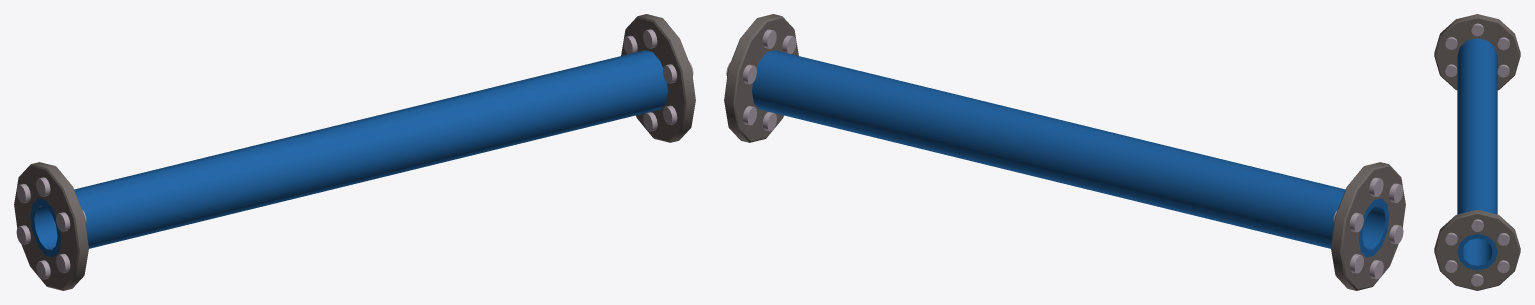
File: Pipe-Straight.fbx
3 views of the same model, side by side, from view 1: azimuth 30°, elevation 25°; view 2: azimuth 150°, elevation 25°; view 3: azimuth 270°, elevation 25° (orthographic). The views are drawn at different scales.
Visible parts, largest first — view 1: Pipe-Straight; view 2: Pipe-Straight; view 3: Pipe-Straight.
Part boxes in pixels (<box>): Pipe-Straight: <box>14,14,695,290</box>; Pipe-Straight: <box>724,14,1405,290</box>; Pipe-Straight: <box>1434,14,1520,290</box>.
Size of the model in its own units: 14.51 by 2.62 by 2.62.
